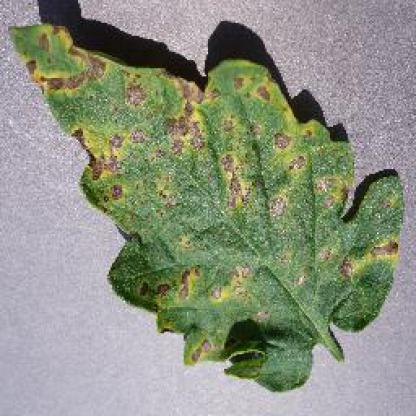bad leaf: (1, 5, 394, 381)
